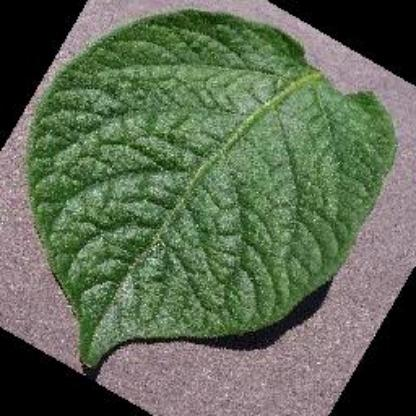Healthy-plant: (29, 6, 403, 380)
